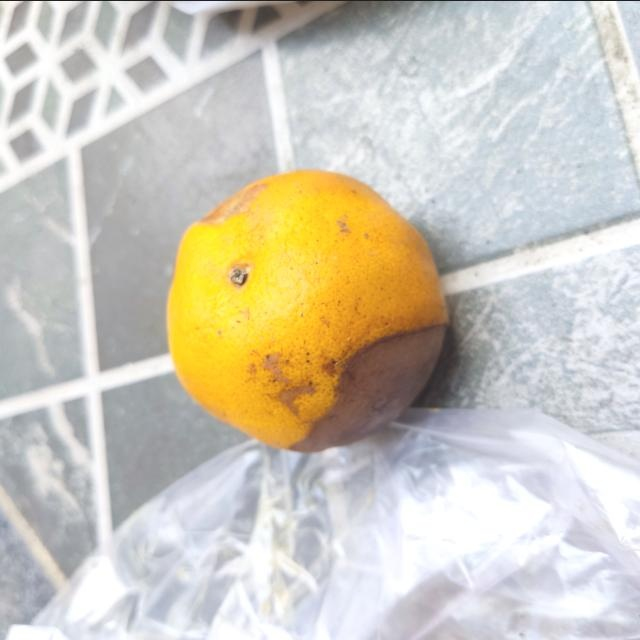agrume: (164, 163, 460, 457)
